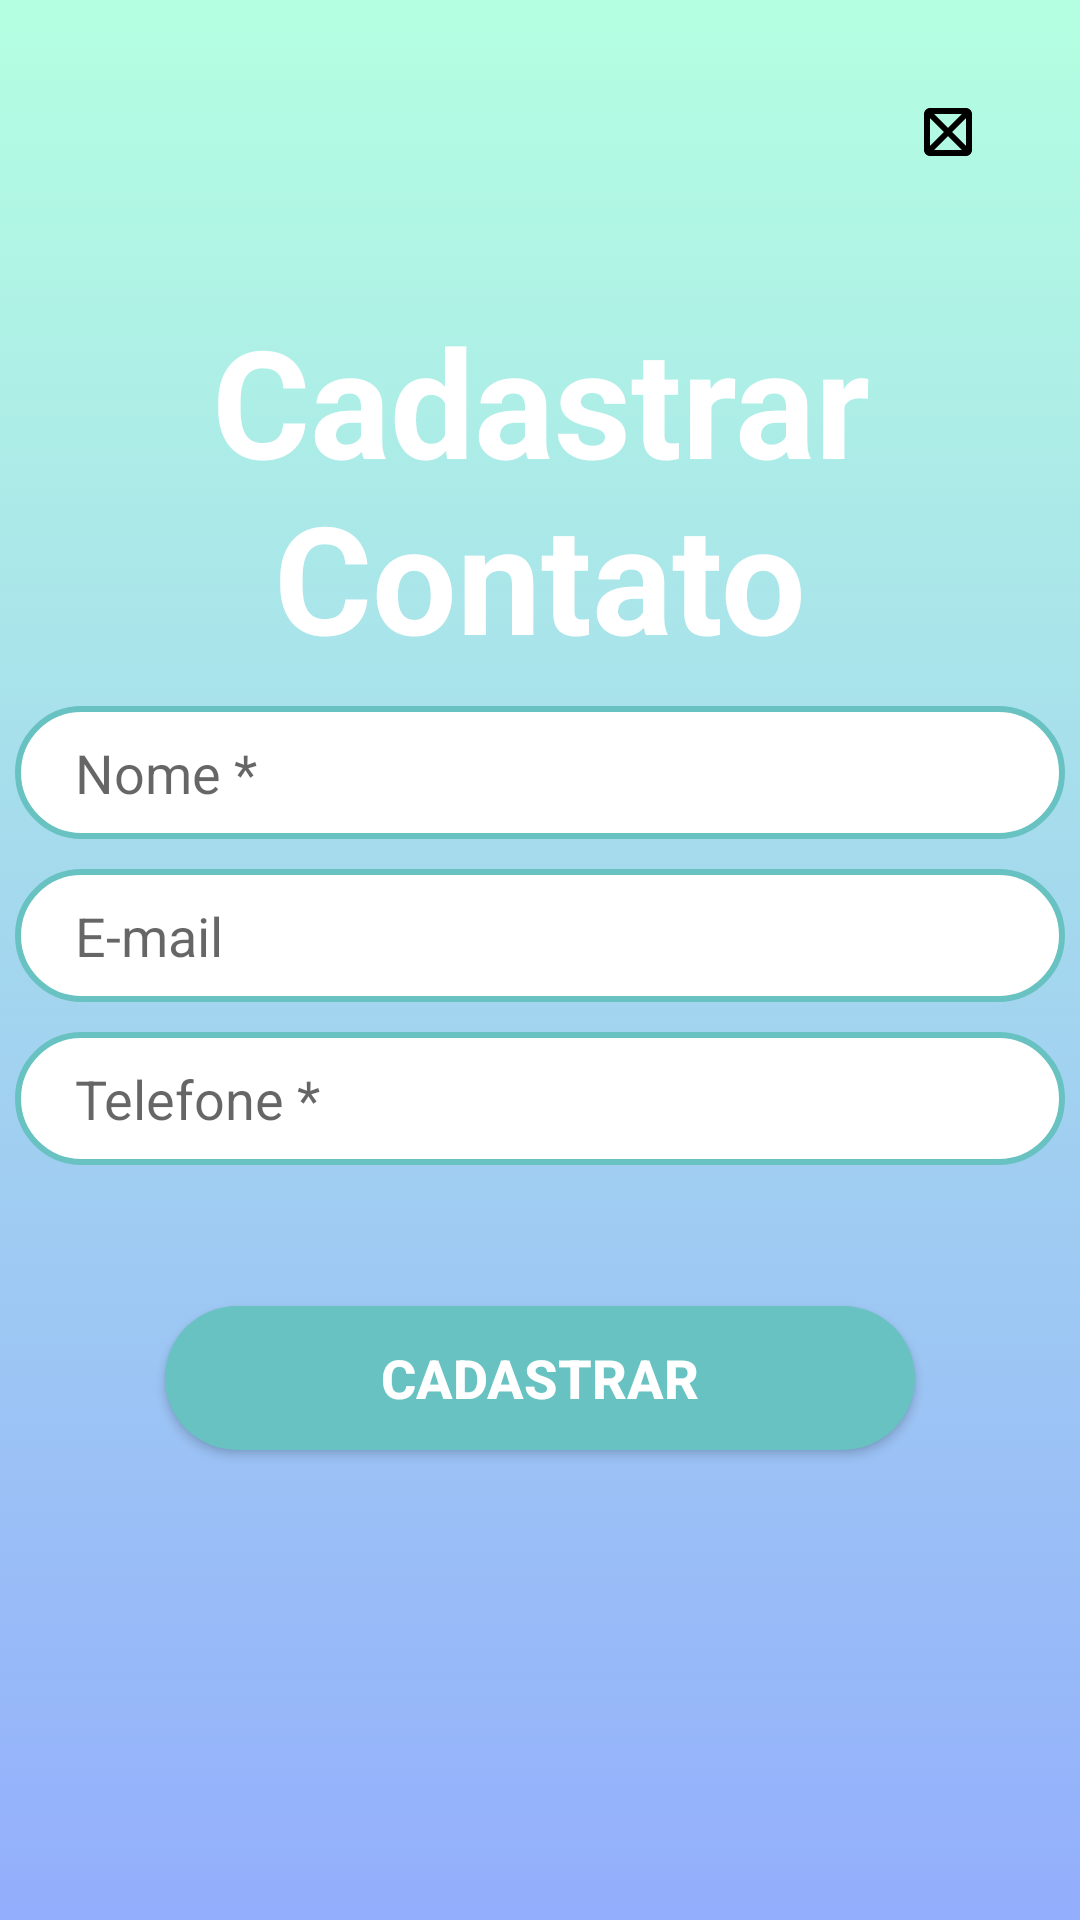

Screen size 1080px×1920px. Icon name, then its box in pixels as BBox(x1, y1, x2, y2):
close: BBox(924, 108, 972, 156)
